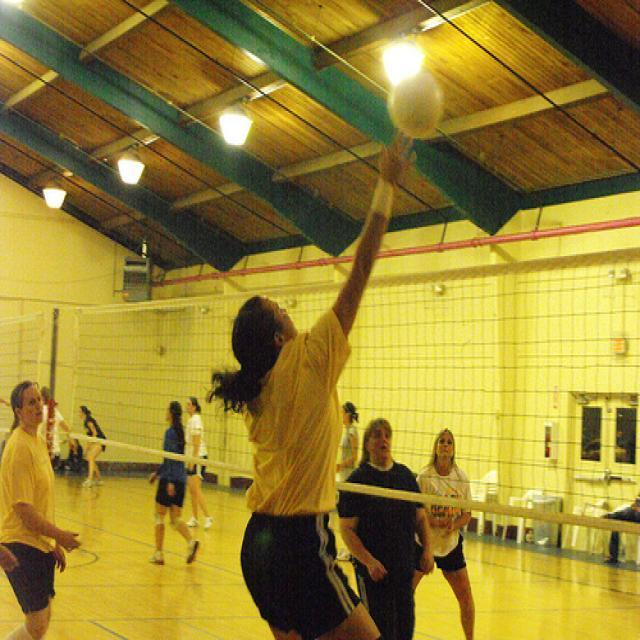volleyball: (389, 76, 442, 138)
